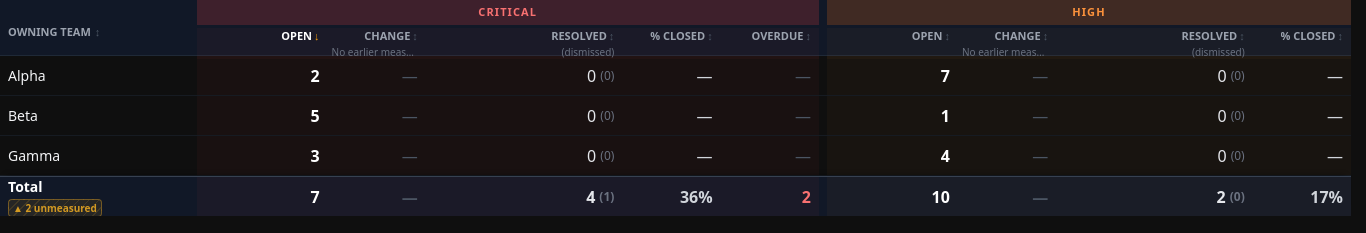
Scenario: sorting › a first click on another header starts in that header's own direction, and the default header goes back to ↕
This screenshot has width=1366, height=233.
Click the button "Owning team ↕︎" at (54, 32), box [8,24,100,40]
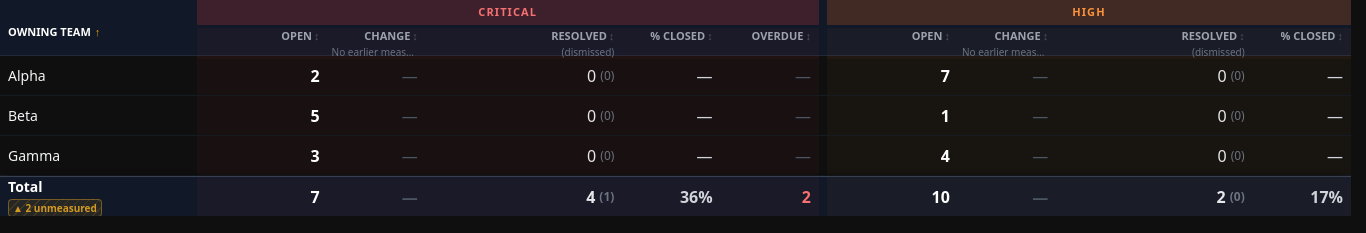
Expected: the 1st column heading "Open ↕︎" is shown, [196,28,328,58]
